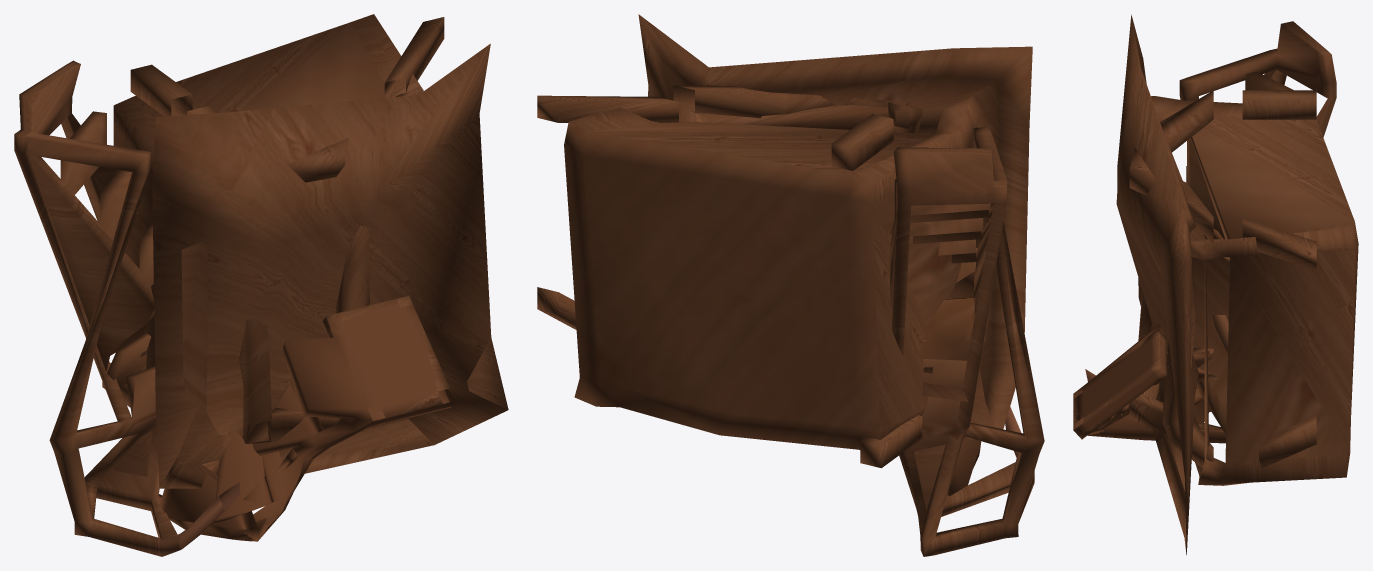
File: base_dead.fbx
3 views of the same model, side by side, from view 1: azimuth 30°, elevation 25°; view 2: azimuth 150°, elevation 25°; view 3: azimuth 270°, elevation 25° (orthographic). The views are drawn at different scales.
Visible parts, largest first — view 1: Box01_None.001; view 2: Box01_None.001; view 3: Box01_None.001.
Boxes of the visible parts, left/top/right/bottom form: Box01_None.001: left=14, top=14, right=508, bottom=556; Box01_None.001: left=537, top=14, right=1044, bottom=556; Box01_None.001: left=1073, top=14, right=1358, bottom=554.
Bounding box in the file's own units: 105 × 99.44 × 63.5.
Materials: 1 (1 with a texture image).
